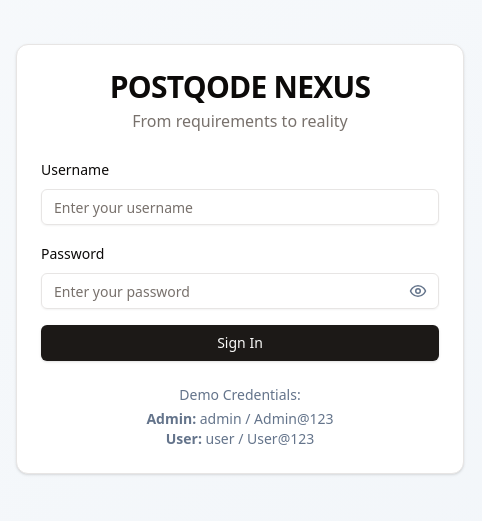
Test case: LoginPage › shows validation errors for empty fields
The image size is (482, 521).
Click the button "Sign In": point(240, 343) 41,325 -> 439,361
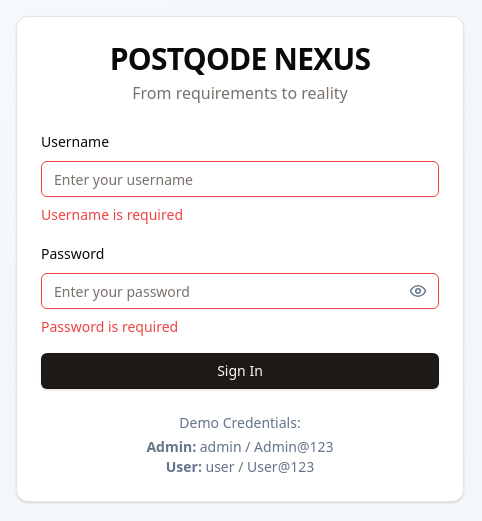
Expected: the text "Username is required" is shown, 41,205 -> 183,224
Expected: the text "Password is required" is shown, 41,317 -> 178,336
